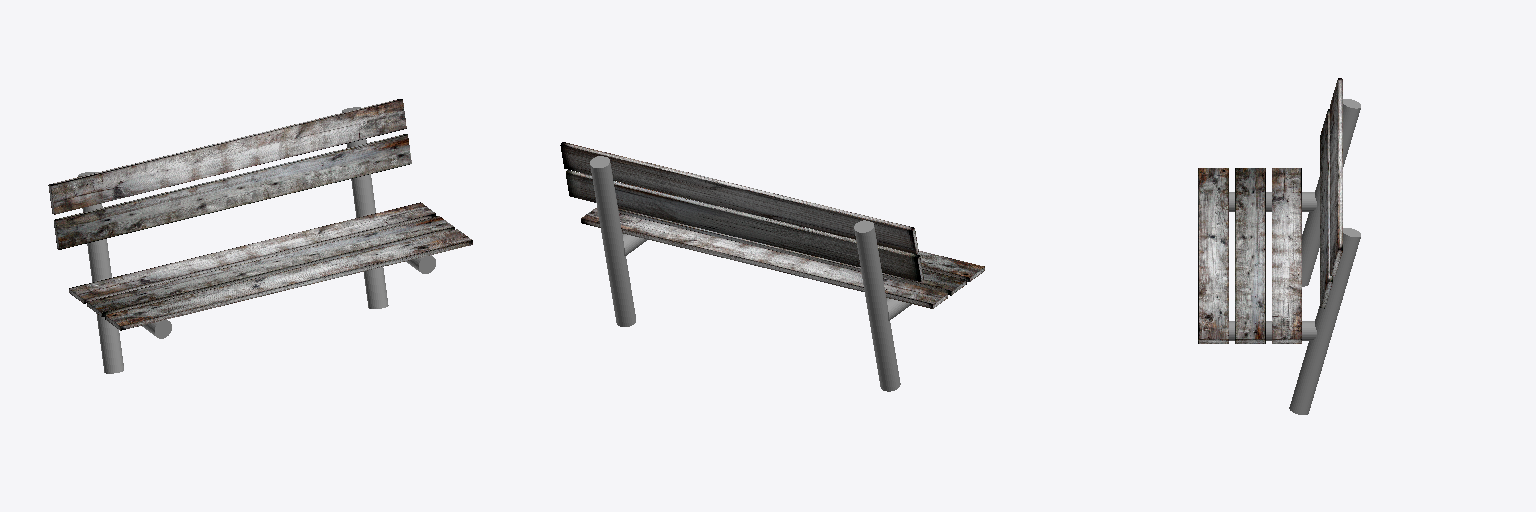
3 renders of one model, left to right at view 1: azimuth 30°, elevation 25°; view 2: azimuth 150°, elevation 25°; view 3: azimuth 270°, elevation 25°, orthographic.
Visible parts, largest first — view 1: Bänk_Cylinder.001; view 2: Bänk_Cylinder.001; view 3: Bänk_Cylinder.001.
Part boxes in pixels (bbox=[...]): Bänk_Cylinder.001: bbox=[48, 99, 472, 373]; Bänk_Cylinder.001: bbox=[560, 142, 984, 391]; Bänk_Cylinder.001: bbox=[1198, 78, 1360, 414].
Bounding box in the file's own units: 8 × 4.02 × 3.21.
Materials: 5 (3 with a texture image).